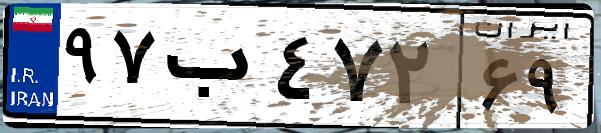2: (385, 28, 445, 110)
4: (270, 28, 330, 110)
6: (475, 38, 525, 113)
7: (330, 28, 385, 110), (110, 28, 158, 98)
9: (57, 26, 110, 100), (525, 38, 570, 115)
ب: (158, 20, 270, 120)
